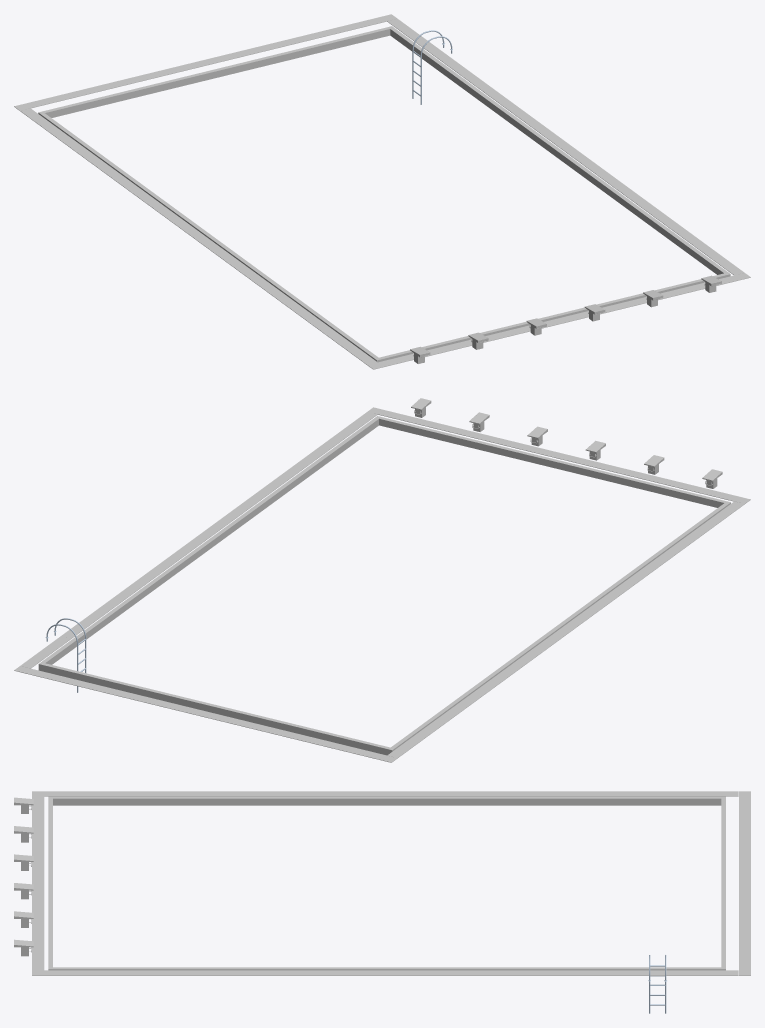
File: springboard.fbx
3 views of the same model, one above another, from view 1: azimuth 30°, elevation 25°; view 2: azimuth 150°, elevation 25°; view 3: azimuth 270°, elevation 25° (orthographic).
Visible parts, largest first — view 1: sink, bevel, springboard; view 2: sink, bevel, springboard; view 3: sink, bevel, springboard.
Boxes of the visible parts, box(x1,y1,x2,y2) form: sink: box(14, 14, 750, 369); bevel: box(38, 26, 730, 362); springboard: box(410, 275, 721, 363); sink: box(14, 407, 750, 762); bevel: box(38, 416, 730, 755); springboard: box(411, 398, 722, 488); sink: box(32, 791, 750, 975); bevel: box(48, 796, 725, 970); springboard: box(14, 797, 33, 956).
Bounding box in the file's own units: 16.67 × 2.62 × 27.38.
